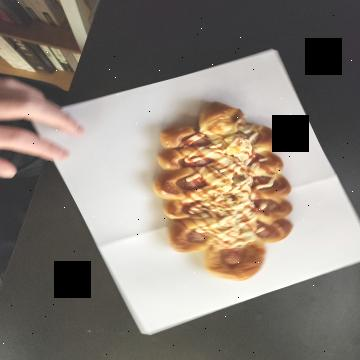pizza_bread: (108, 70, 289, 211)
